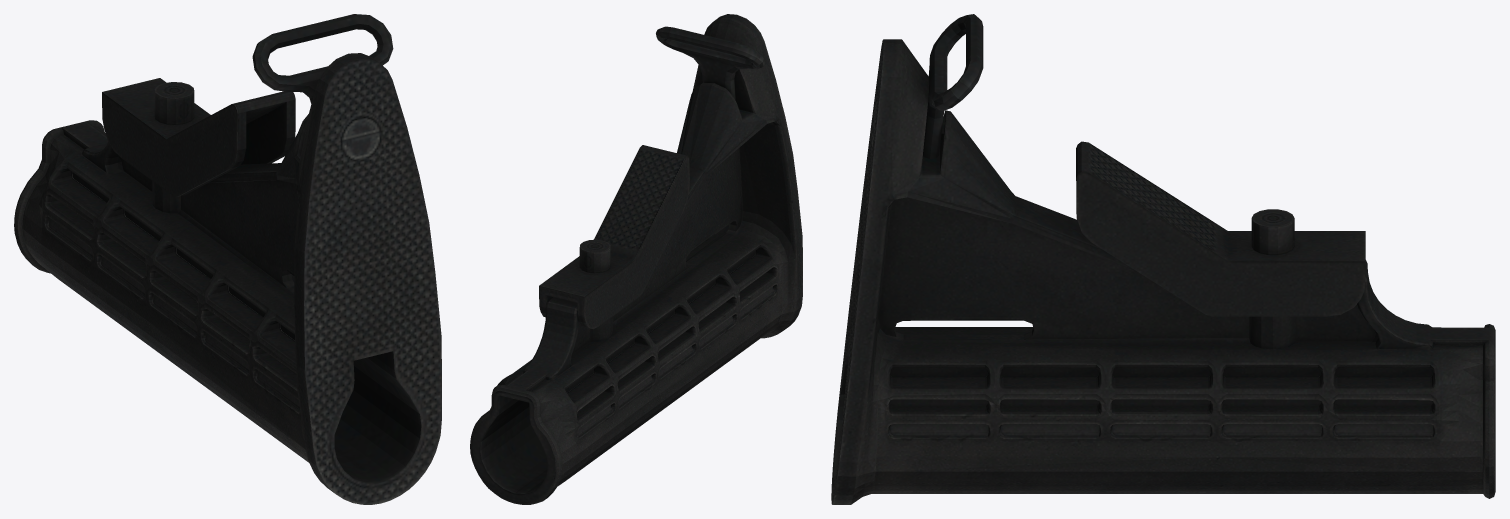
3 renders of one model, left to right at view 1: azimuth 30°, elevation 25°; view 2: azimuth 150°, elevation 25°; view 3: azimuth 270°, elevation 25°, orthographic. The views are drawn at different scales.
Parts seen in each view (by area): view 1: TW_55d4ae6c4bdc2d8b2f8b456e_PZ_Import; view 2: TW_55d4ae6c4bdc2d8b2f8b456e_PZ_Import; view 3: TW_55d4ae6c4bdc2d8b2f8b456e_PZ_Import.
Part boxes in pixels (x1,y1,x2,y2): TW_55d4ae6c4bdc2d8b2f8b456e_PZ_Import: (14,14,441,504); TW_55d4ae6c4bdc2d8b2f8b456e_PZ_Import: (470,14,802,504); TW_55d4ae6c4bdc2d8b2f8b456e_PZ_Import: (831,14,1495,504).
Size of the model in its own units: 0.0252 by 0.0989 by 0.0754.
1 material, 1 textured.
